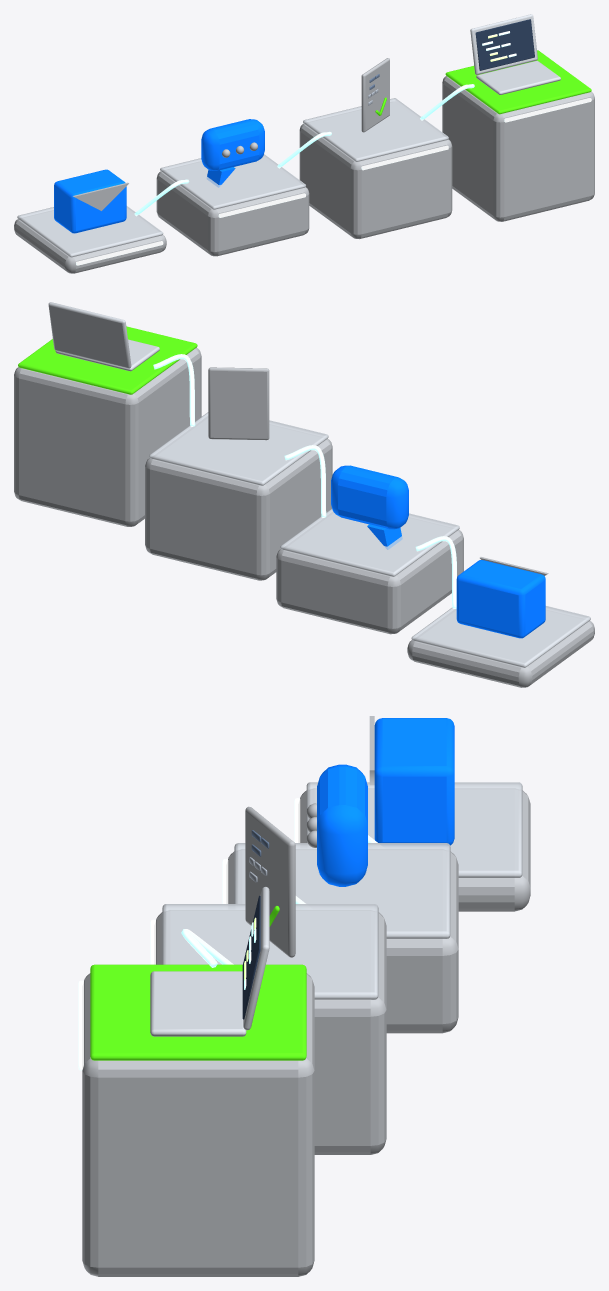
The model's file is admissions-steps.glb.
3 views of the same model, one above another, from view 1: azimuth 30°, elevation 25°; view 2: azimuth 150°, elevation 25°; view 3: azimuth 270°, elevation 25° (orthographic). The views are drawn at different scales.
Visible parts, largest first — view 1: Join, Apply, Talk, Enquire, Path; view 2: Join, Apply, Talk, Enquire, Path; view 3: Join, Apply, Talk, Enquire, Path.
Part boxes in pixels (x1,y1,x2,y2): Join: (442,14,594,221); Apply: (299,58,452,239); Talk: (156,119,309,256); Enquire: (14,169,166,273); Path: (134,84,474,216); Join: (14,302,201,526); Apply: (145,367,332,580); Talk: (276,465,463,634); Enquire: (407,557,594,687); Path: (153,354,456,608); Join: (78,886,314,1276); Apply: (150,806,386,1154); Talk: (222,764,458,1033); Enquire: (294,716,530,911); Path: (181,835,377,967).
Size of the model in its own units: 6.85 by 2.19 by 2.82.
